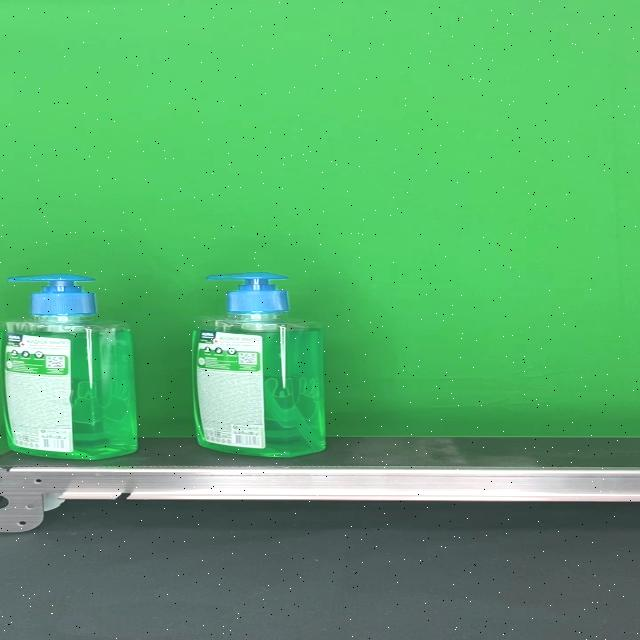Bottle: (0, 274, 138, 460), (190, 273, 326, 457)
Cap: (6, 274, 96, 316), (206, 273, 288, 314)
